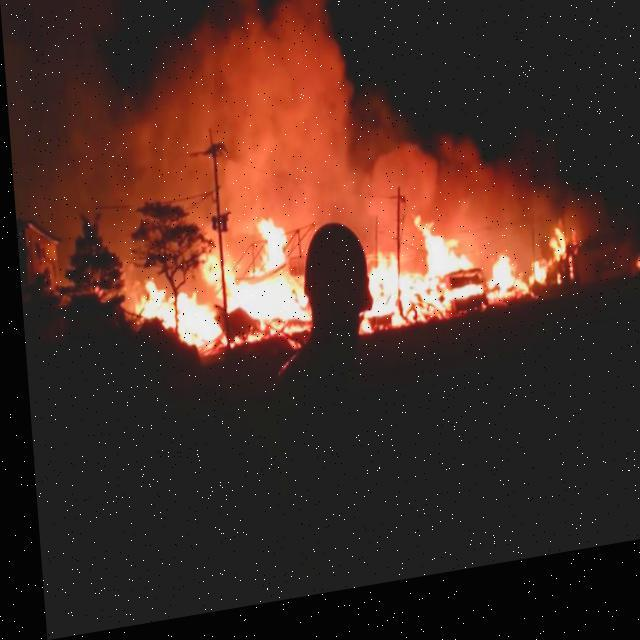Fire: (11, 0, 591, 345), (123, 220, 304, 362), (361, 213, 524, 343), (543, 244, 564, 280), (522, 279, 540, 303), (628, 258, 639, 290), (354, 328, 366, 346)
